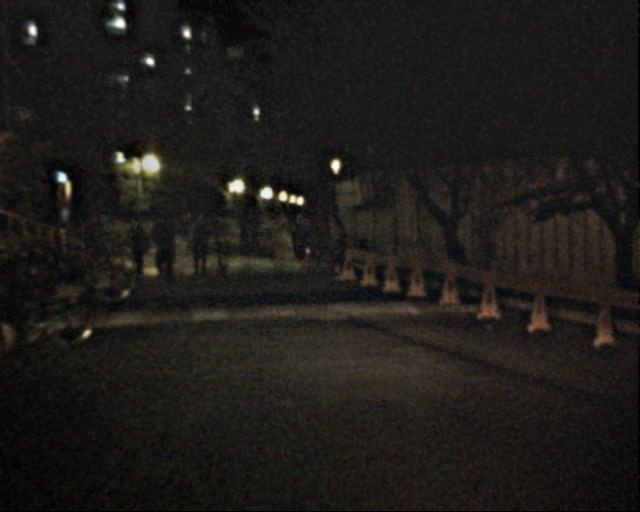person: (147, 206, 175, 275), (125, 215, 150, 277), (324, 217, 349, 277), (92, 215, 116, 273), (190, 216, 213, 273), (174, 211, 191, 253), (235, 210, 252, 252), (246, 212, 262, 252)
